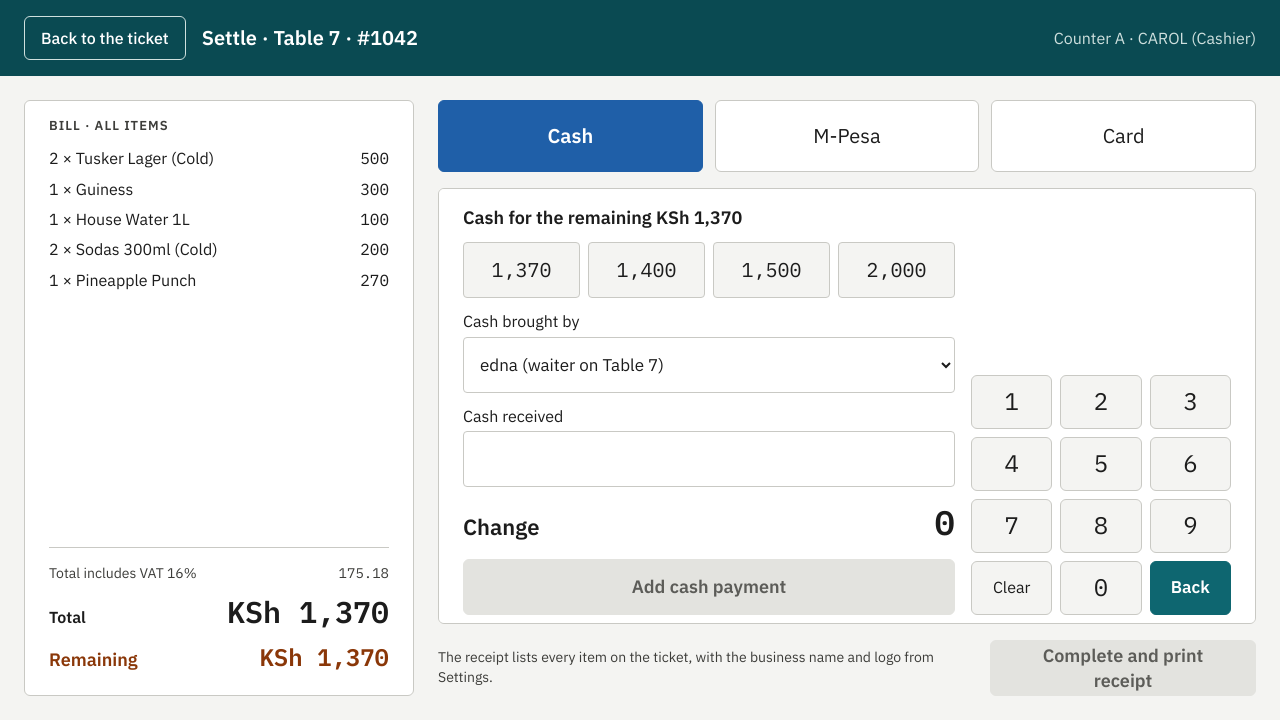
settle screen › removing a pending payment brings the remaining back
Expected: the heading "Settle · Table 7 · #1042" is shown, [202,24,418,52]
Expected: the text "2 × Tusker Lager (Cold)" is shown, [49,147,214,170]
Click the button "Card".
click(1124, 136)  # box [991,100,1256,172]
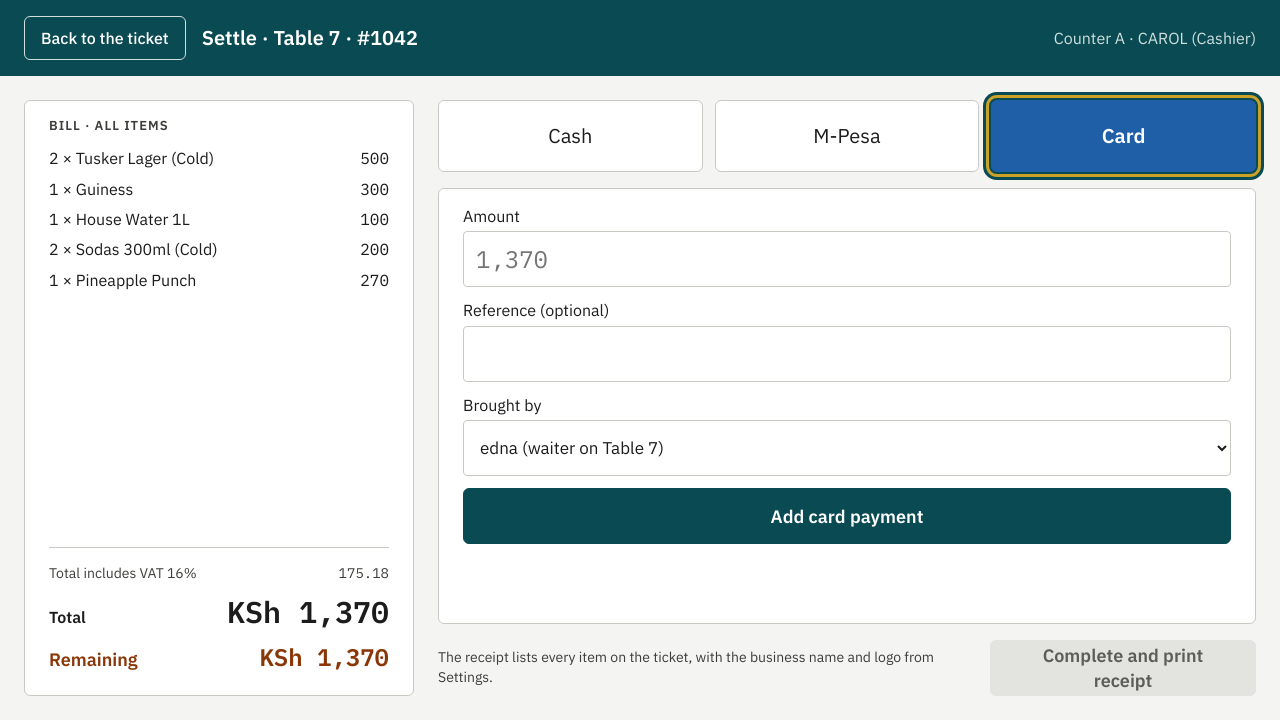
Click the button "Add card payment".
click(847, 516)  # box [463,488,1231,544]
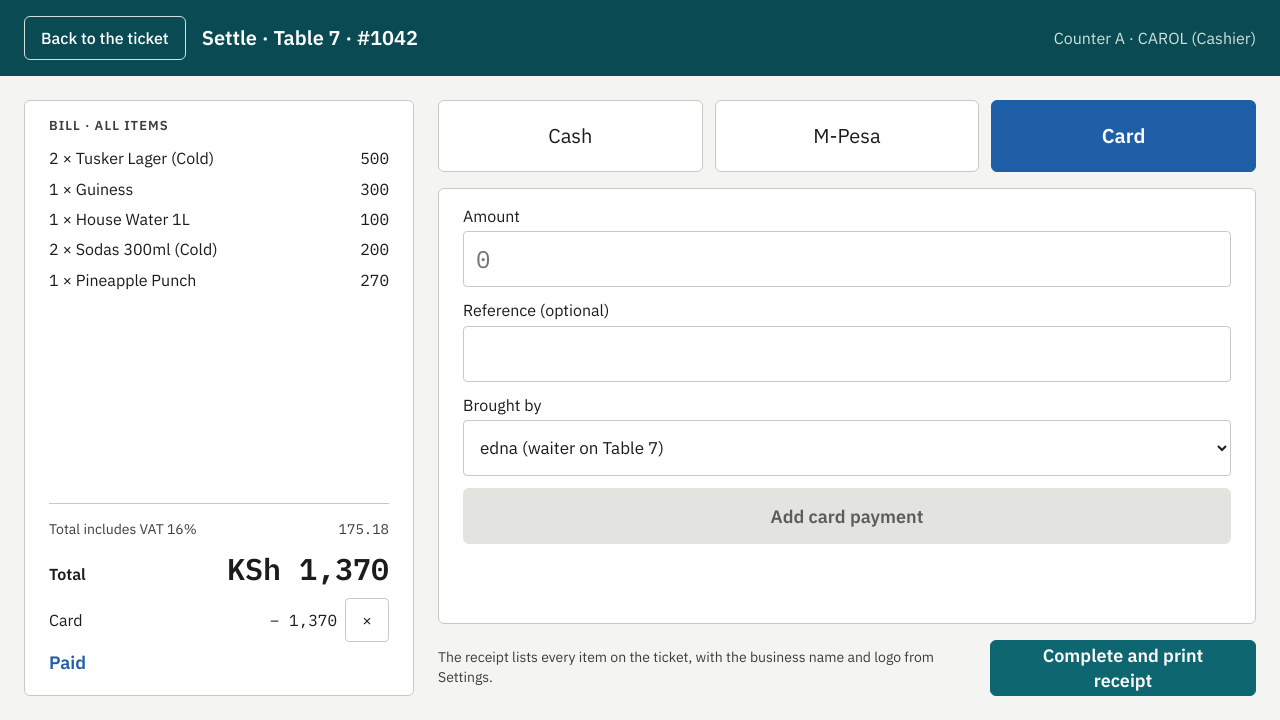
Result: the text "Paid" is shown at [49,650,86,675]
Result: the button "Complete and print receipt" is enabled at [990,640,1256,696]
Click the button named "Remove Card 1,370".
click(367, 620)  # box [345,598,389,642]
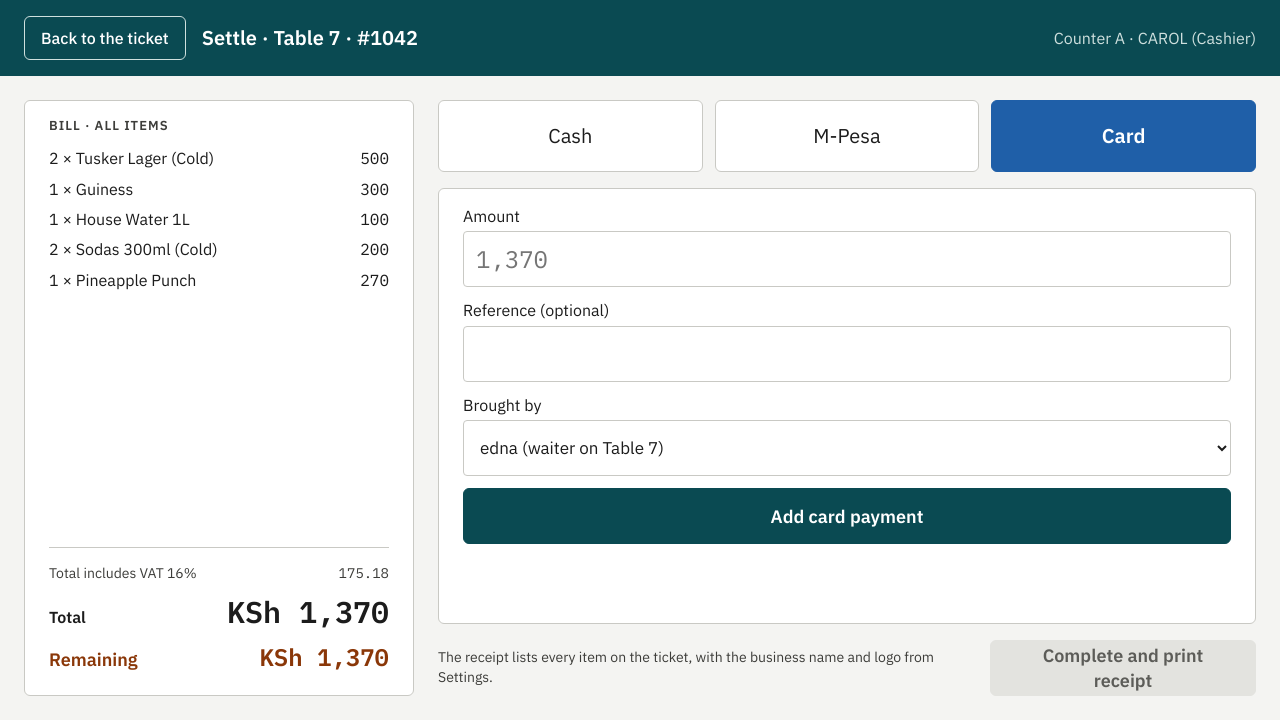
Result: the text "Remaining" is shown at [49,647,138,673]
Result: the button "Complete and print receipt" is disabled at [990,640,1256,696]
